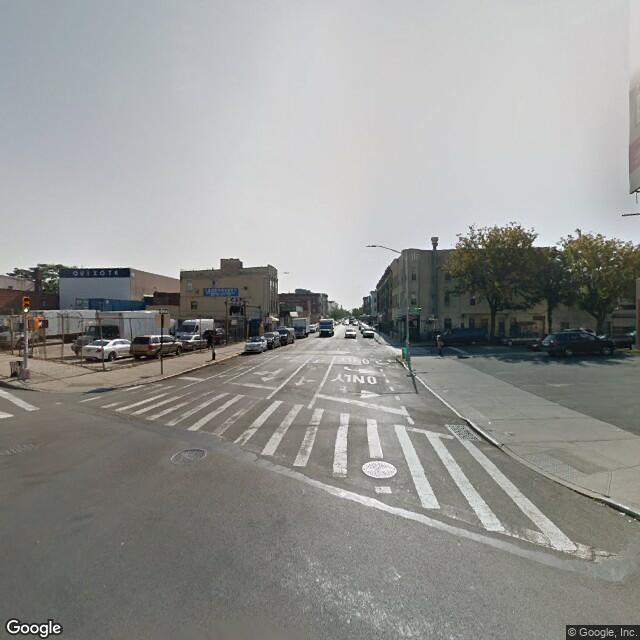litter: (615, 504, 639, 531)
